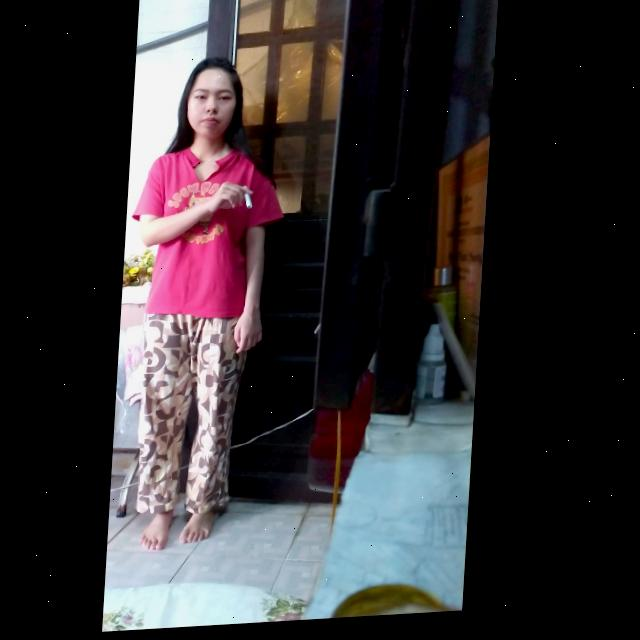cigarette: (245, 188, 256, 212)
